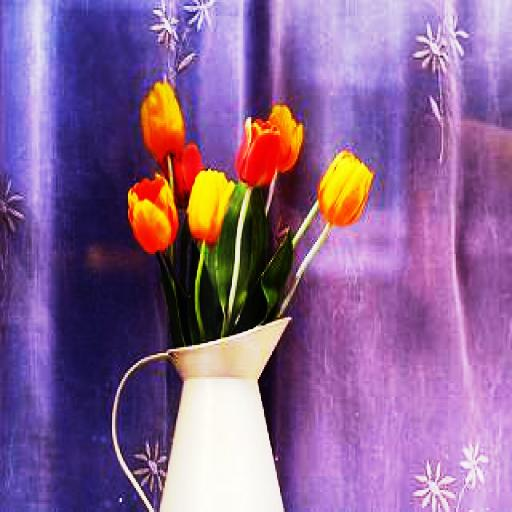tulip: (318, 151, 372, 226), (126, 175, 178, 252), (140, 85, 186, 155), (237, 115, 280, 183), (190, 173, 232, 238)
